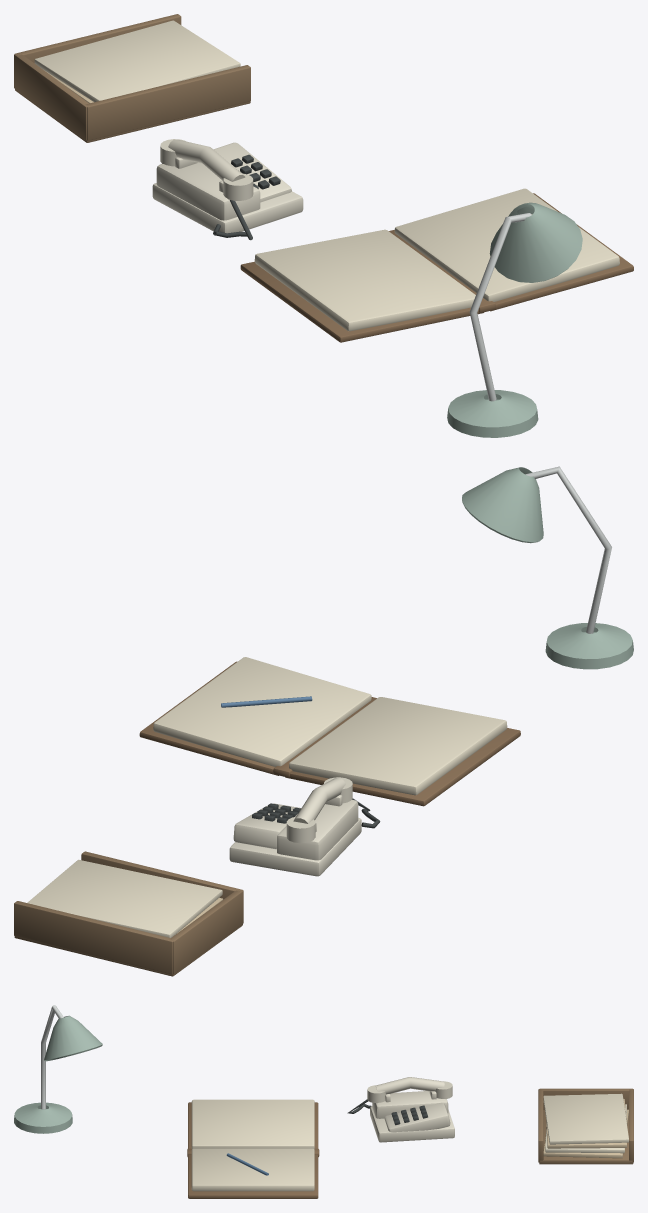
The model's file is CTCC_PROP_ReceptionProps.fbx.
3 views of the same model, one above another, from view 1: azimuth 30°, elevation 25°; view 2: azimuth 150°, elevation 25°; view 3: azimuth 270°, elevation 25° (orthographic). The views are drawn at different scales.
Visible parts, largest first — view 1: CTCC_PROP_ReceptionProps_LOD0; view 2: CTCC_PROP_ReceptionProps_LOD0; view 3: CTCC_PROP_ReceptionProps_LOD0.
Boxes of the visible parts, x1,y1,x2,y2 form: CTCC_PROP_ReceptionProps_LOD0: (14,14,633,437); CTCC_PROP_ReceptionProps_LOD0: (14,466,633,976); CTCC_PROP_ReceptionProps_LOD0: (14,1005,633,1198).
Size of what is drawn, in the model's own units: 0.61 by 0.3797 by 1.71.
